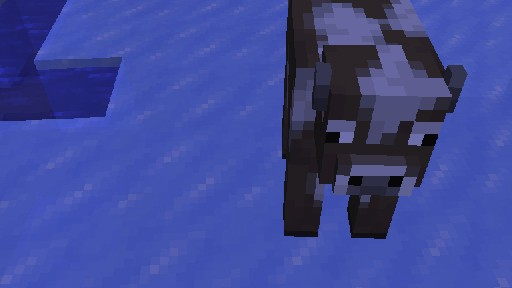cow: (281, 0, 467, 239)
